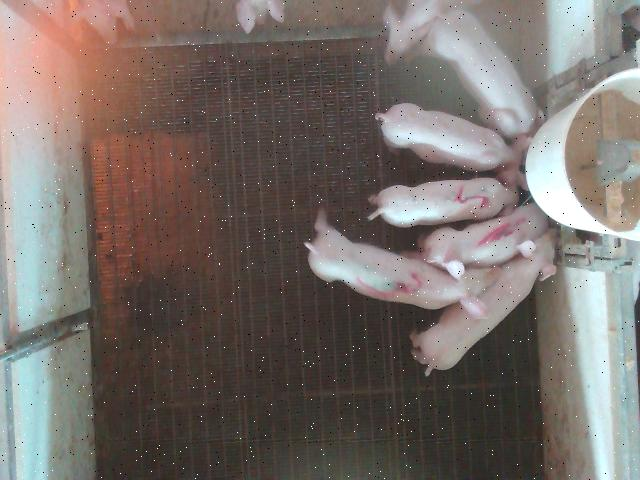pig-1: (421, 204, 548, 268)
pig-3: (305, 211, 498, 317)
pig-5: (369, 170, 524, 228)
